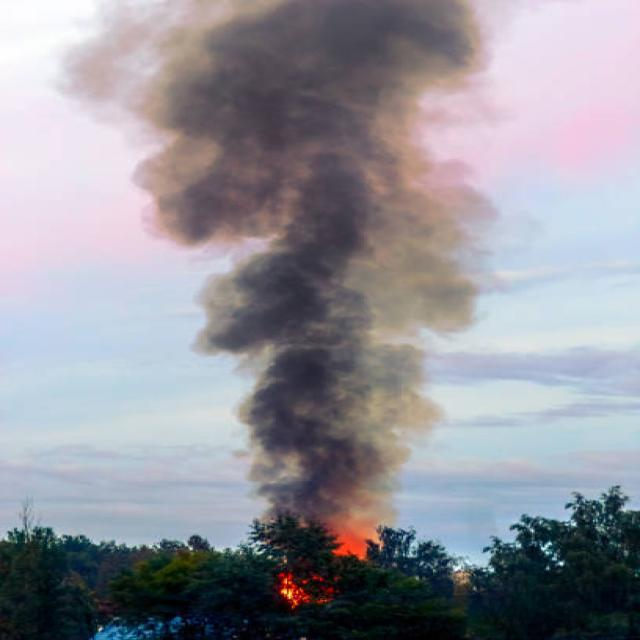Fire: (268, 524, 374, 613)
Smoke: (123, 0, 489, 562)
